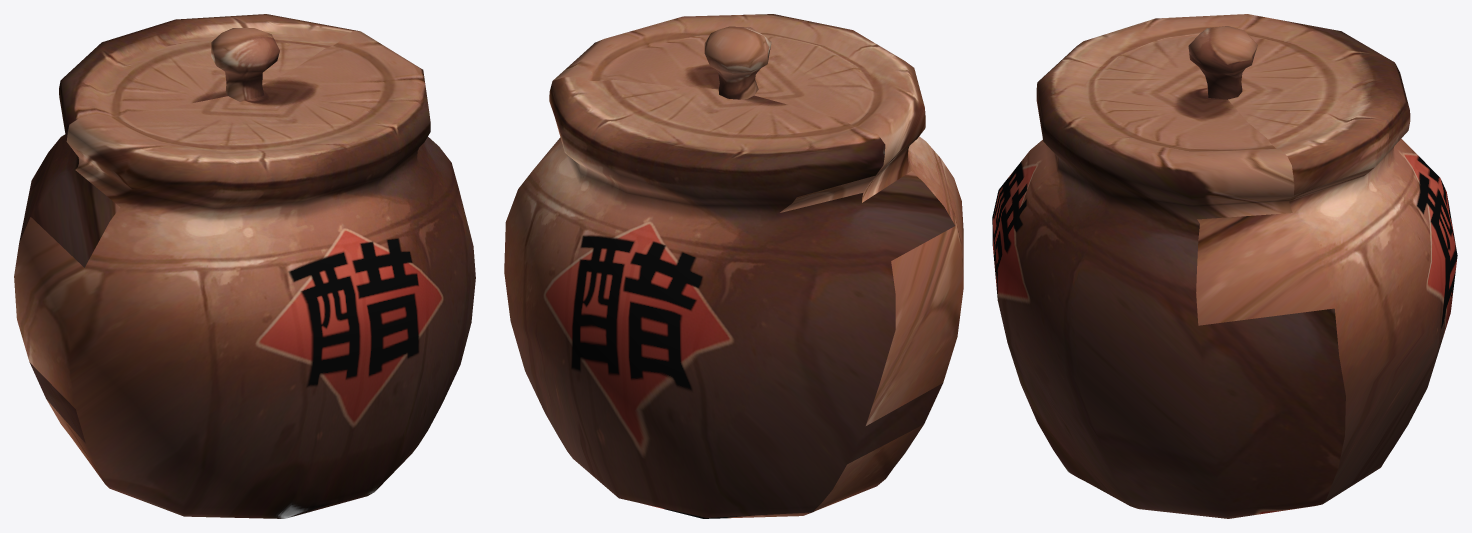
The model's file is Vinegar.fbx.
3 views of the same model, side by side, from view 1: azimuth 30°, elevation 25°; view 2: azimuth 150°, elevation 25°; view 3: azimuth 270°, elevation 25° (orthographic).
Visible parts, largest first — view 1: Mesh0; view 2: Mesh0; view 3: Mesh0.
Part boxes in pixels (x1,y1,x2,y2): Mesh0: (14, 14, 475, 518); Mesh0: (504, 14, 963, 518); Mesh0: (992, 14, 1457, 518).
Bounding box in the file's own units: 186 × 188 × 185.
